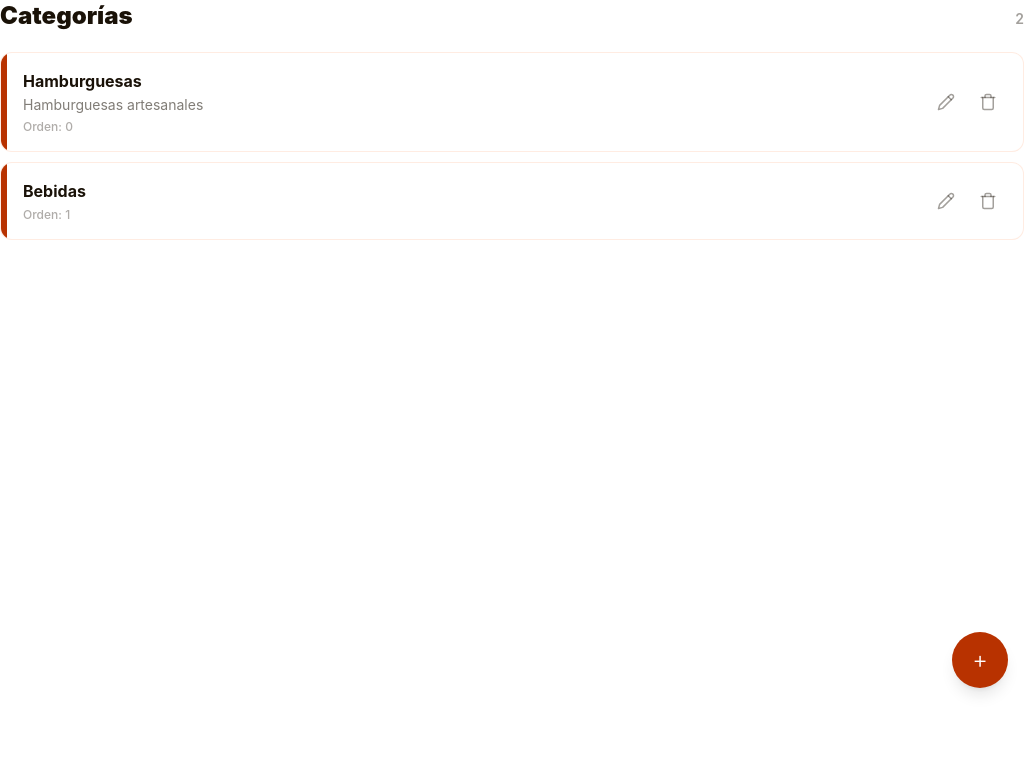
Scenario: CategoriesPage › shows error alert dialog when removal fails
Expected: the text "Hamburguesas" is shown, [23, 71, 142, 91]
Step 1. Click the button named "Eliminar Hamburguesas" → (988, 102), box [969, 83, 1007, 121]
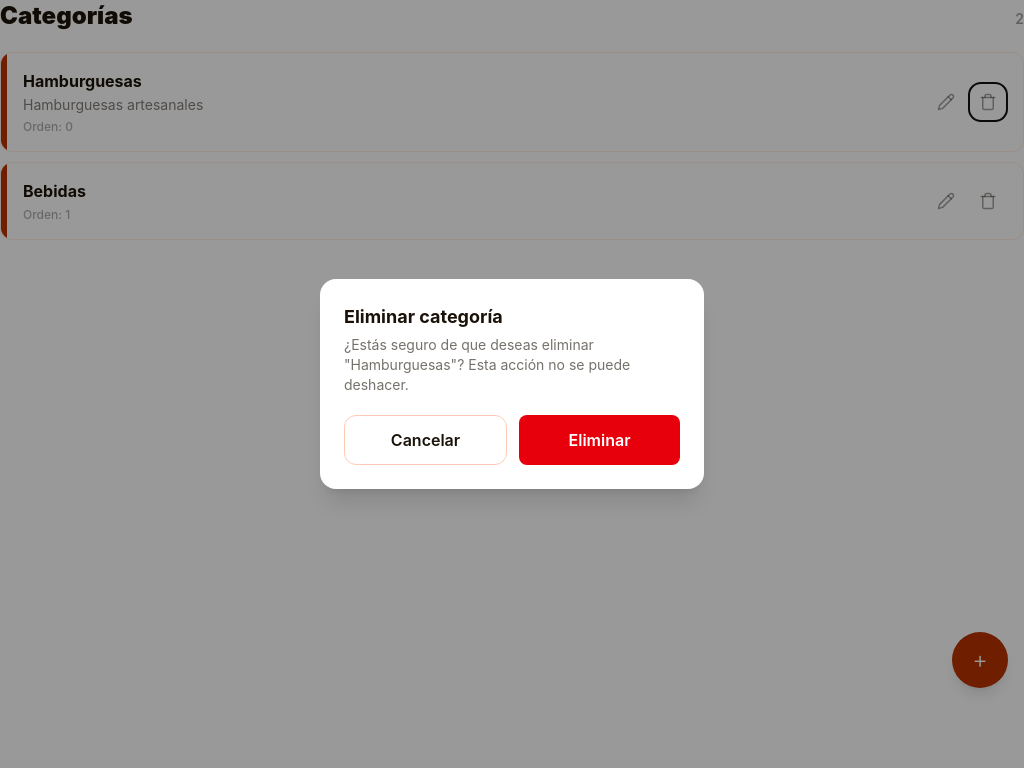
Step 2. Click the button "Eliminar" → (600, 440), box [519, 415, 680, 465]
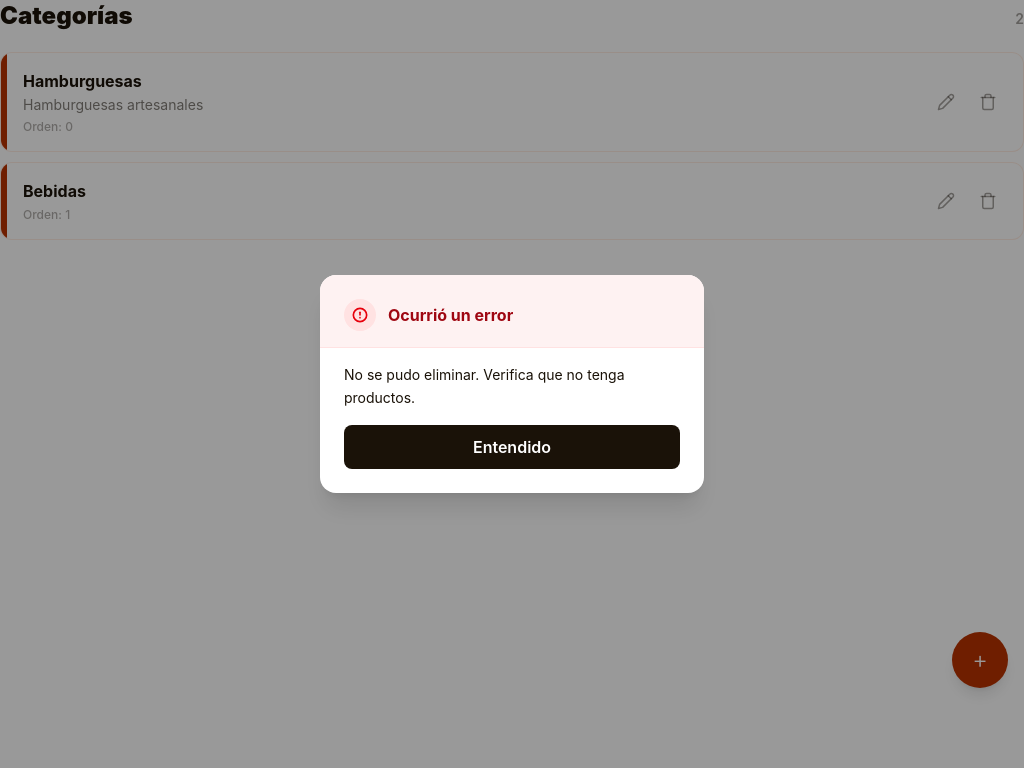
Result: the text "No se pudo eliminar. Verifica que no tenga productos." is shown at [344, 366, 624, 406]
